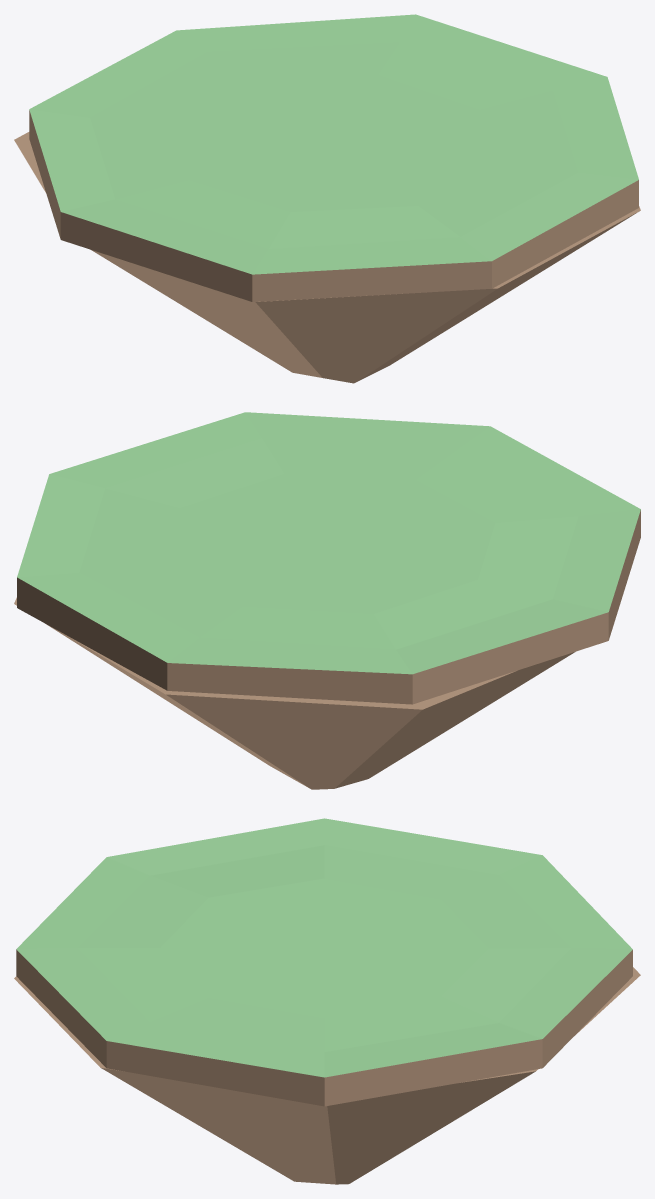
Rendered from plate.glb.
3 views of the same model, one above another, from view 1: azimuth 30°, elevation 25°; view 2: azimuth 150°, elevation 25°; view 3: azimuth 270°, elevation 25° (orthographic). The views are drawn at different scales.
Parts seen in each view (by area): view 1: Plate; view 2: Plate; view 3: Plate.
Boxes of the visible parts, left/top/right/bottom form: Plate: left=14, top=14, right=640, bottom=383; Plate: left=14, top=412, right=640, bottom=789; Plate: left=14, top=818, right=640, bottom=1184.
Bounding box in the file's own units: 12 × 4.63 × 12.2.
